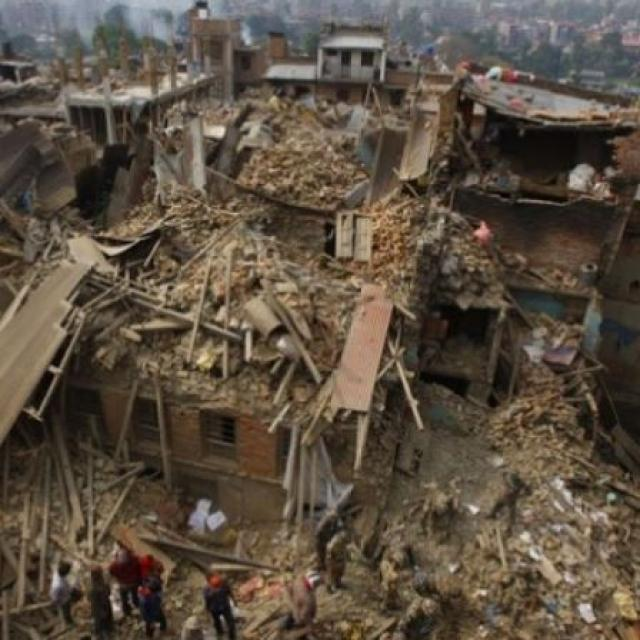collapsed_building: (56, 80, 377, 478), (456, 76, 638, 424)
